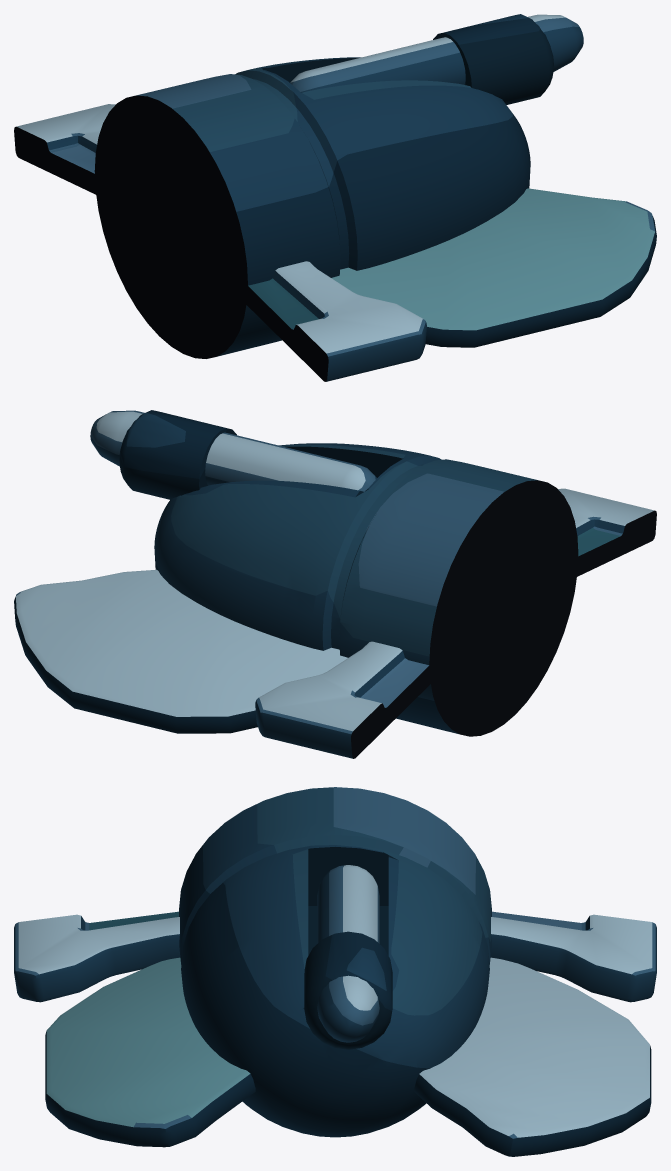
File: cruiser_nose.glb
3 renders of one model, top to bottom at view 1: azimuth 30°, elevation 25°; view 2: azimuth 150°, elevation 25°; view 3: azimuth 270°, elevation 25°, orthographic. The views are drawn at different scales.
Parts seen in each view (by area): view 1: cruiser_nose; view 2: cruiser_nose; view 3: cruiser_nose.
Boxes of the visible parts, left/top/right/bottom form: cruiser_nose: left=14, top=14, right=656, bottom=381; cruiser_nose: left=14, top=410, right=656, bottom=758; cruiser_nose: left=14, top=787, right=656, bottom=1156.
Bounding box in the file's own units: 19 × 10.39 × 24.82.
